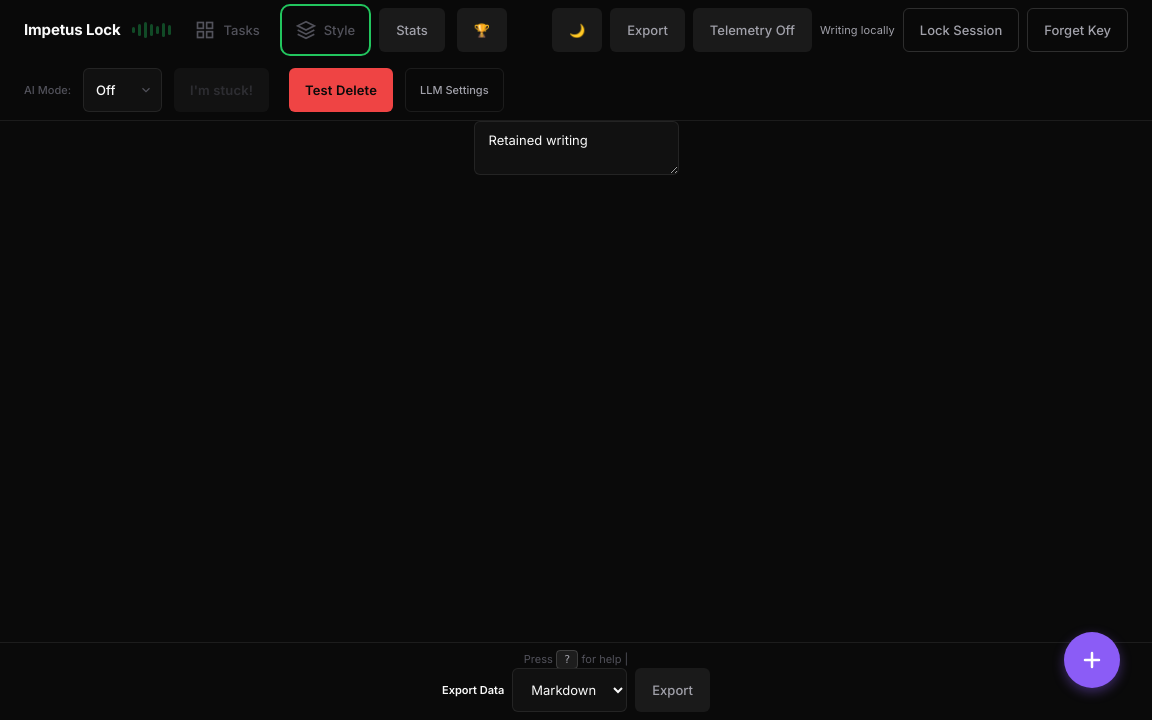
Test: keeps style-learning-toggle keyboard focus inside and returns it after Escape
Click the button with test id "style-learning-toggle" at (325, 30), box x1=284 y1=8 x2=367 y2=52
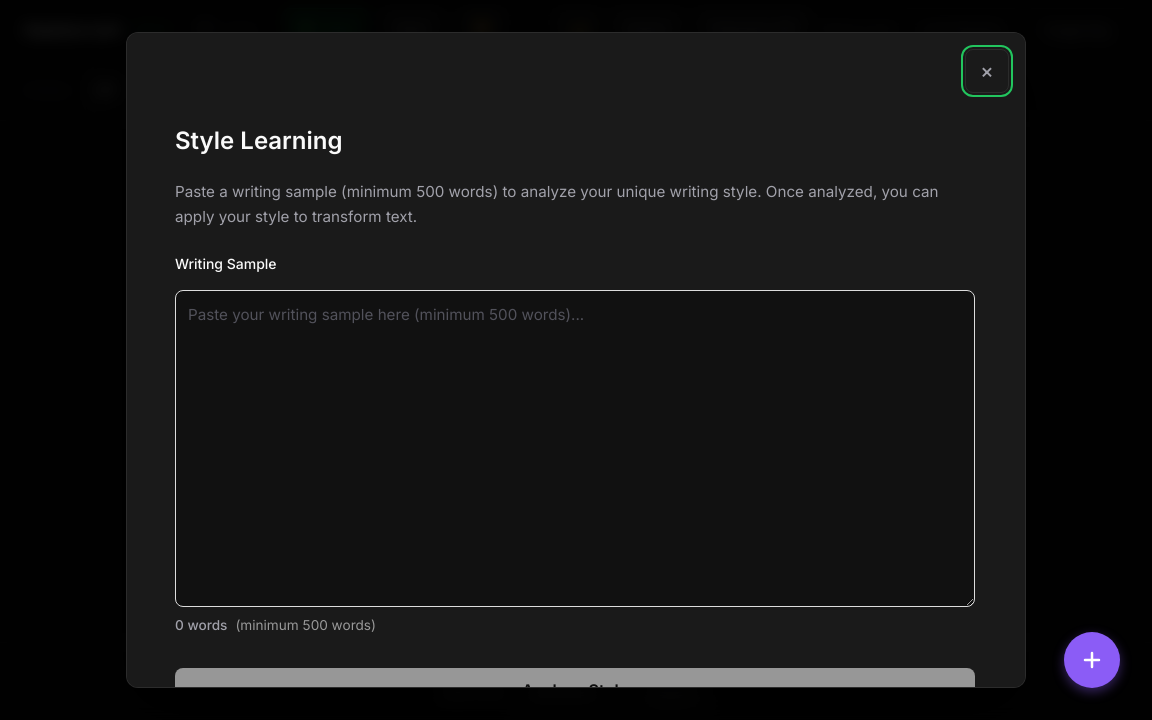
Press Tab in the button named "Close Style Learning", box x1=965 y1=49 x2=1009 y2=93
Press Escape in the button named "Close Style Learning", box x1=965 y1=49 x2=1009 y2=93
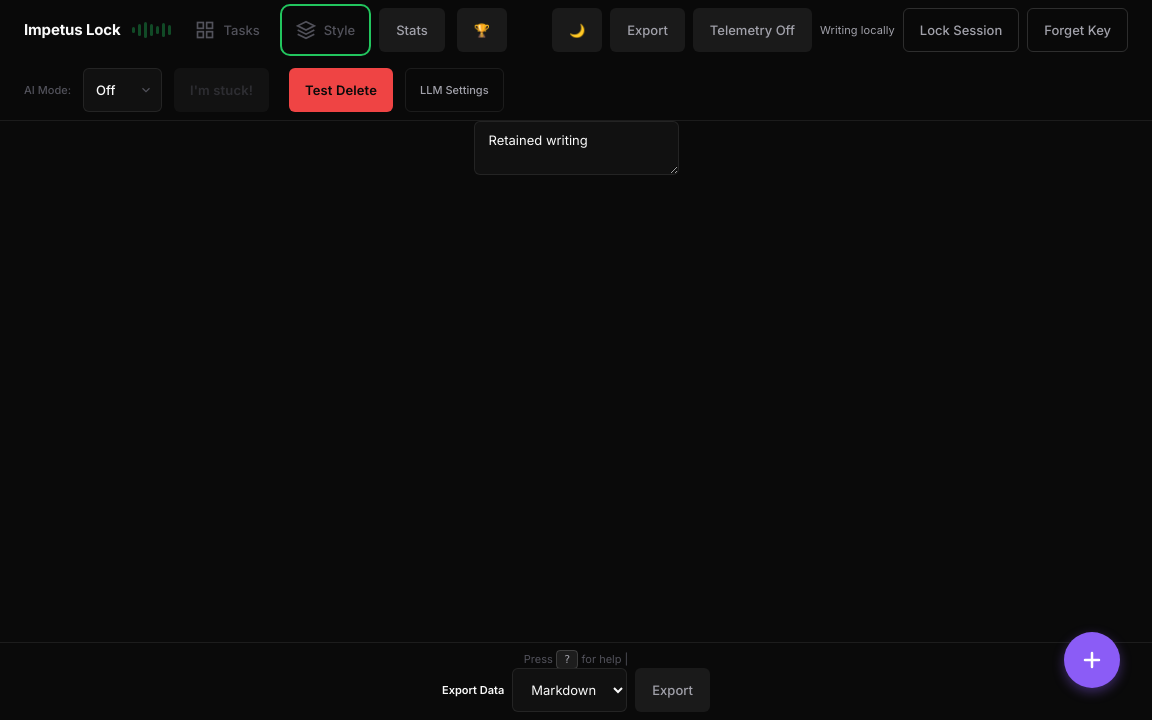
Expected: the text box named "Writing" holds "Retained writing", x1=474 y1=121 x2=678 y2=175
Expected: the heading "Style Learning" is gone
